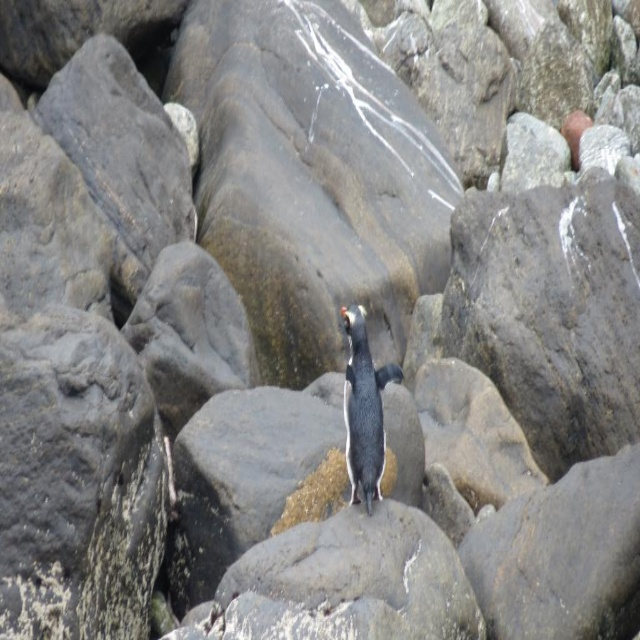Penguin: (342, 307, 403, 514)
